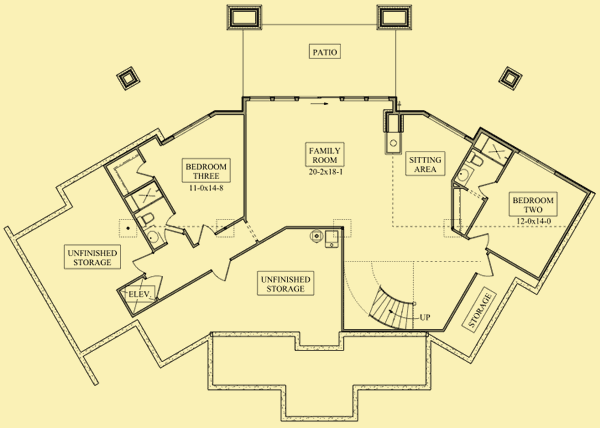door: (144, 273, 166, 297), (129, 252, 154, 273), (212, 256, 231, 283), (478, 255, 496, 282), (195, 222, 216, 245), (166, 211, 186, 233), (477, 180, 498, 199), (134, 161, 154, 179), (162, 227, 186, 242), (470, 231, 490, 247)
large_sink: (464, 151, 487, 168), (136, 211, 157, 227)
small_sink: (452, 163, 474, 187), (147, 226, 164, 247)
stairs: (367, 284, 431, 331)
windows: (424, 112, 471, 141), (171, 114, 214, 139), (244, 91, 300, 105), (337, 91, 392, 104)
